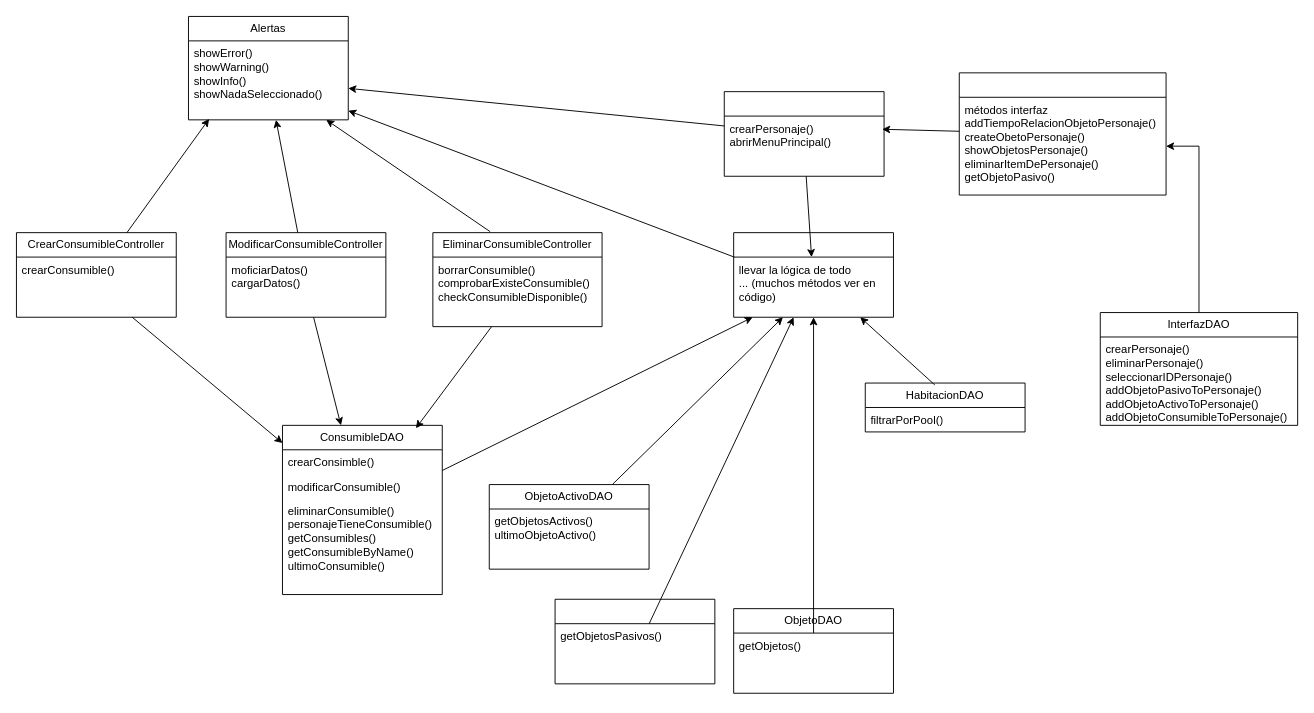
Image size: 1314x713. Some labels were removed from this diagram. The box of each missing label's shape, as (x1, y1, x2, y2) in pixels:
MenuController: (733, 232, 893, 317)
ObjetoPasivoDAO: (554, 598, 715, 684)
PersonajeDAO(): (958, 72, 1166, 195)
SeleccionPersonaje: (723, 91, 884, 176)
